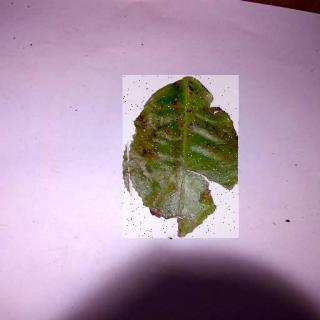Bird Eye Spot: (124, 76, 241, 239)
